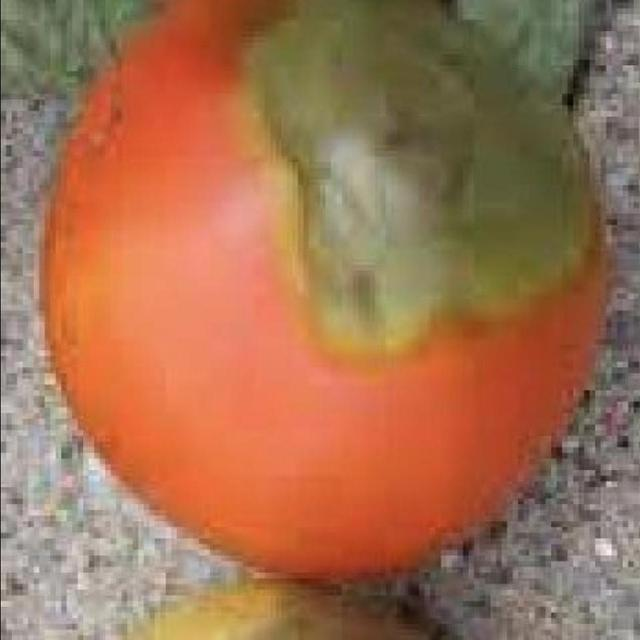Sunscald Fruit: (157, 3, 398, 247)
